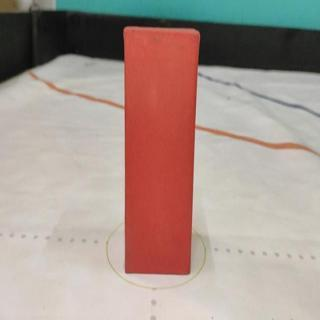redbox: (123, 24, 200, 275)
